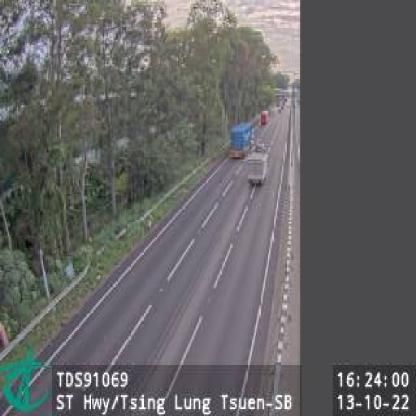Bus: (260, 111, 270, 127)
Truck: (230, 122, 255, 159), (247, 150, 272, 186)
